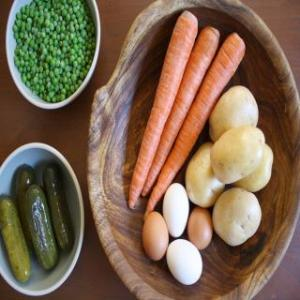carrot: (129, 6, 245, 214)
cucumber: (1, 194, 32, 282), (25, 188, 57, 273), (44, 169, 72, 260)
egg: (166, 241, 204, 286), (164, 184, 188, 234), (142, 210, 166, 258), (190, 210, 209, 246)
potato: (210, 126, 270, 186), (212, 184, 264, 250), (184, 138, 229, 212), (208, 84, 260, 148)
